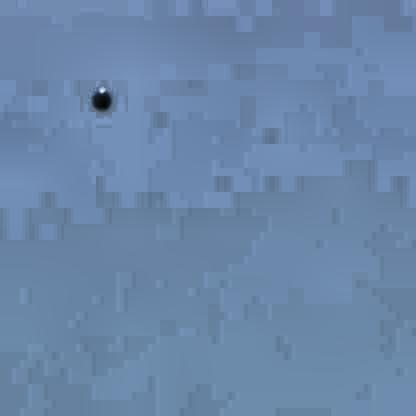golfball: (89, 81, 108, 106)
